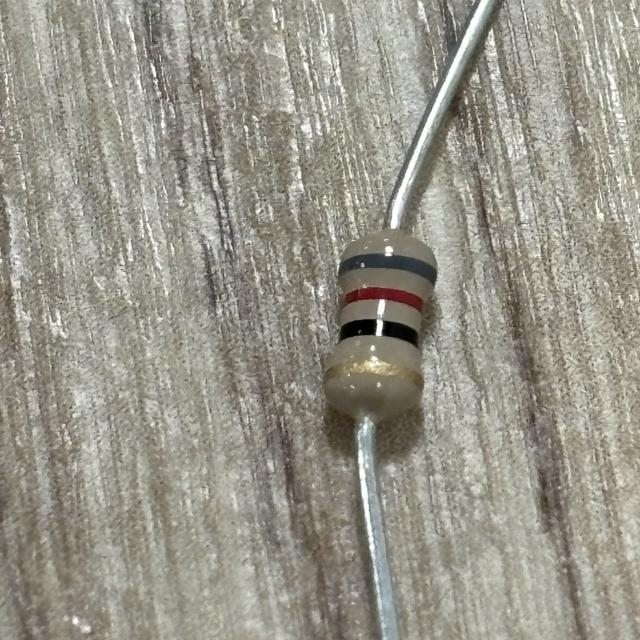resistor: (312, 233, 446, 417)
